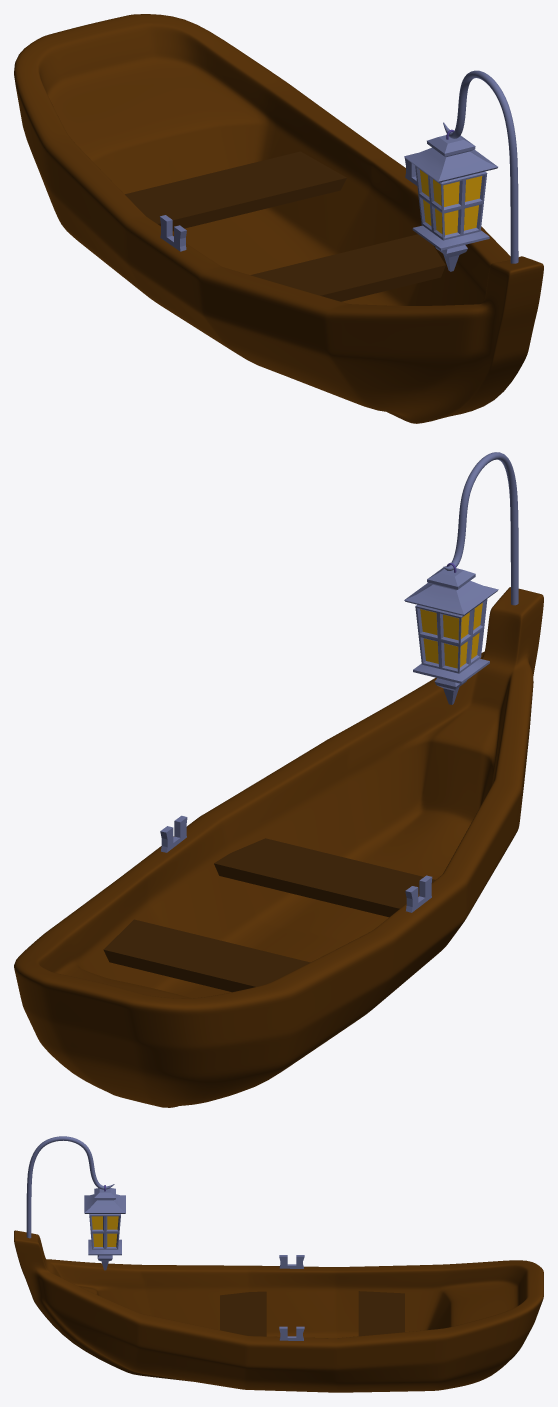
File: boat2.fbx
3 renders of one model, top to bottom at view 1: azimuth 30°, elevation 25°; view 2: azimuth 150°, elevation 25°; view 3: azimuth 270°, elevation 25°, orthographic. The views are drawn at different scales.
Parts seen in each view (by area): view 1: boat LP, plank 3, Plane.027, plank 2, Vert.017, Plane.031; view 2: boat LP, plank 2, plank 3, Plane.027, Vert.017; view 3: boat LP, Plane.027, plank 3, plank 2, Vert.017.
Part boxes in pixels (x1,y1,x2,y2): boat LP: (14,14,543,423); plank 3: (125,151,346,231); Plane.027: (404,135,497,271); plank 2: (250,234,445,301); Vert.017: (443,70,518,263); Plane.031: (159,215,186,251); boat LP: (14,587,543,1107); plank 2: (214,838,435,917); plank 3: (103,919,310,992); Plane.027: (404,566,498,704); Vert.017: (443,452,518,605); boat LP: (14,1230,543,1392); Plane.027: (84,1188,125,1270); plank 3: (358,1291,404,1336); plank 2: (220,1291,266,1336); Vert.017: (26,1136,114,1238).
Bounding box in the file's own units: 452 × 657 × 1280.
